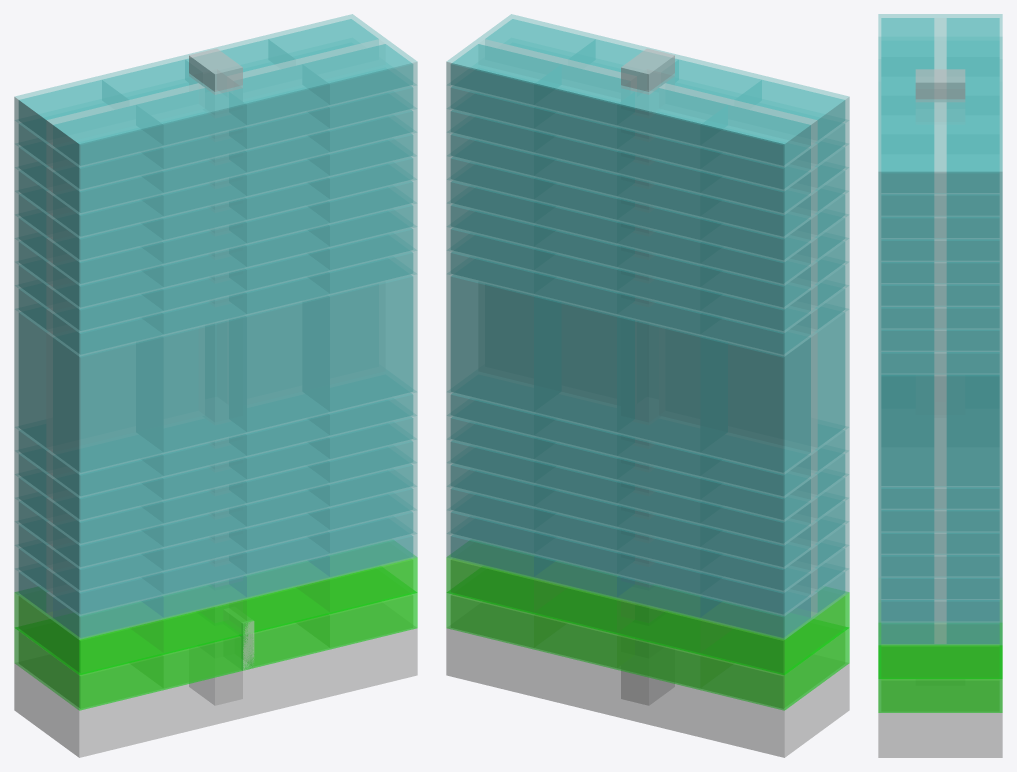
Rendered from TowerStoryHeight.glb.
The picture shows the model from 3 angles, left to right: view 1: azimuth 30°, elevation 25°; view 2: azimuth 150°, elevation 25°; view 3: azimuth 270°, elevation 25°; orthographic projection. The views are drawn at different scales.
Parts seen in each view (by area): view 1: 9159_mesh, 9456_mesh, 8892_mesh, 8913_mesh, 8895_mesh, 9168_mesh, 9390_mesh, 9192_mesh, 8961_mesh, 9027_mesh, 9357_mesh, 9423_mesh (+93 smaller); view 2: 9159_mesh, 9456_mesh, 8892_mesh, 8895_mesh, 8913_mesh, 9171_mesh, 9390_mesh, 9192_mesh, 8928_mesh, 8961_mesh, 9027_mesh, 9357_mesh (+93 smaller); view 3: 9456_mesh, 9159_mesh, 8892_mesh, 9186_mesh, 9189_mesh, 8895_mesh, 8913_mesh, 9423_mesh, 8910_mesh, 8925_mesh, 9126_mesh, 8928_mesh (+69 smaller).
Boxes of the visible parts, x1,y1,x2,y2 form: 9159_mesh: (14,271,417,474); 9456_mesh: (14,14,417,167); 8892_mesh: (14,625,417,757); 8913_mesh: (14,555,417,675); 8895_mesh: (14,590,417,710); 9168_mesh: (53,337,163,472); 9390_mesh: (14,106,417,214); 9192_mesh: (14,248,417,356); 8961_mesh: (14,507,417,616); 9027_mesh: (14,460,417,568); 9357_mesh: (14,130,417,238); 9423_mesh: (14,83,417,191); 9159_mesh: (446,271,849,474); 9456_mesh: (446,14,849,167); 8892_mesh: (446,625,849,757); 8895_mesh: (446,590,849,710); 8913_mesh: (446,555,849,675); 9171_mesh: (700,337,810,472); 9390_mesh: (446,106,849,214); 9192_mesh: (446,248,849,356); 8928_mesh: (446,531,849,639); 8961_mesh: (446,507,849,616); 9027_mesh: (446,460,849,568); 9357_mesh: (446,130,849,238); 9456_mesh: (878,14,1002,194); 9159_mesh: (878,352,1002,487); 8892_mesh: (878,679,1002,757); 9186_mesh: (881,375,933,485); 9189_mesh: (947,375,999,485); 8895_mesh: (878,645,1002,712); 8913_mesh: (878,623,1002,678); 9423_mesh: (878,37,1002,216); 8910_mesh: (881,679,999,711); 8925_mesh: (881,645,999,677); 9126_mesh: (878,375,1002,509); 8928_mesh: (878,600,1002,645).
Bounding box in the file's own units: 60 × 107 × 20.
